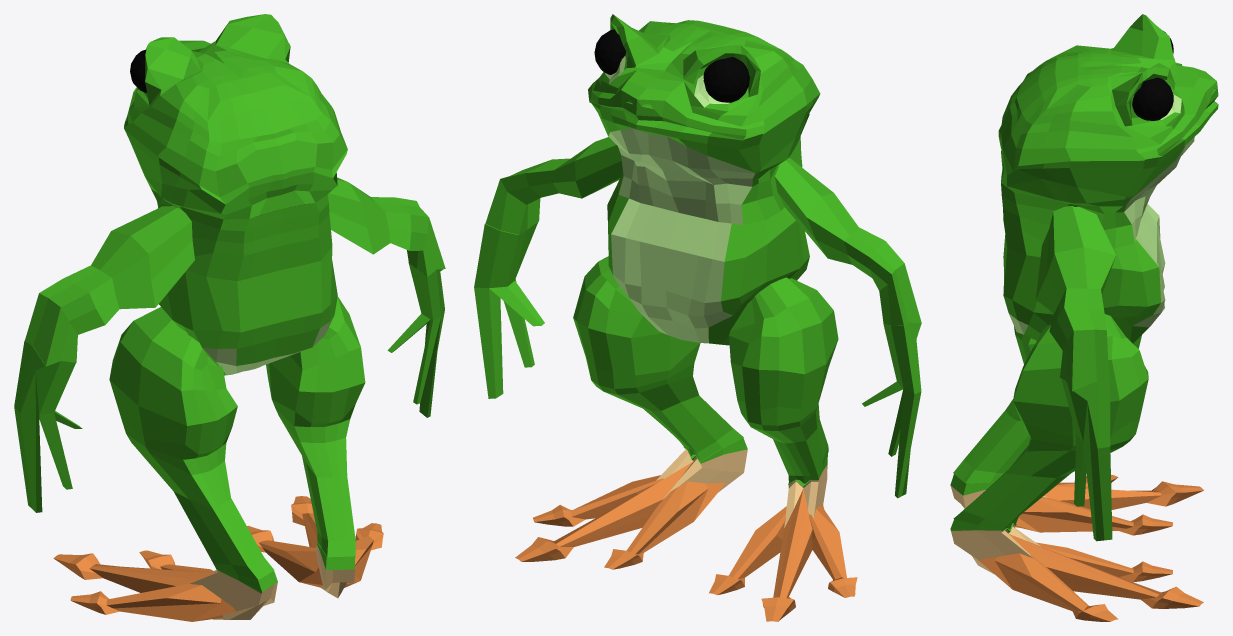
File: frog.glb
3 views of the same model, side by side, from view 1: azimuth 30°, elevation 25°; view 2: azimuth 150°, elevation 25°; view 3: azimuth 270°, elevation 25° (orthographic). The views are drawn at different scales.
Visible parts, largest first — view 1: nerd head, strong body, left leg, right leg, left bicep, left foot lets stomp, right bicep, left slap, right foot lets stomp.001, right slap; view 2: nerd head, strong body, left leg, right leg, right foot lets stomp.001, left foot lets stomp, left bicep, right slap, right bicep, left slap; view 3: nerd head, right leg, strong body, right foot lets stomp.001, right bicep, left foot lets stomp, right slap, left leg.
Boxes of the visible parts, x1,y1,x2,y2 form: nerd head: (124,14,347,219); strong body: (151,189,337,375); left leg: (109,307,273,579); right leg: (266,296,365,557); left bicep: (25,206,194,366); left foot lets stomp: (53,550,277,621); right bicep: (327,177,445,276); left slap: (14,340,82,512); right foot lets stomp.001: (247,496,383,598); right slap: (387,262,444,417); nerd head: (588,14,820,178); strong body: (607,136,809,345); left leg: (729,277,838,483); right leg: (573,256,743,461); right foot lets stomp.001: (515,438,747,569); left foot lets stomp: (709,454,857,621); left bicep: (775,158,921,325); right slap: (474,222,544,398); right bicep: (485,137,622,234); left slap: (862,322,921,498); nerd head: (998,14,1218,206); right leg: (953,314,1148,530); strong body: (1001,156,1165,343); right foot lets stomp.001: (950,519,1203,621); right bicep: (1036,206,1115,391); left foot lets stomp: (950,474,1203,535); right slap: (1061,378,1112,541); left leg: (953,326,1141,483).
Size of the model in its own units: 7.7 by 9.13 by 4.34.
